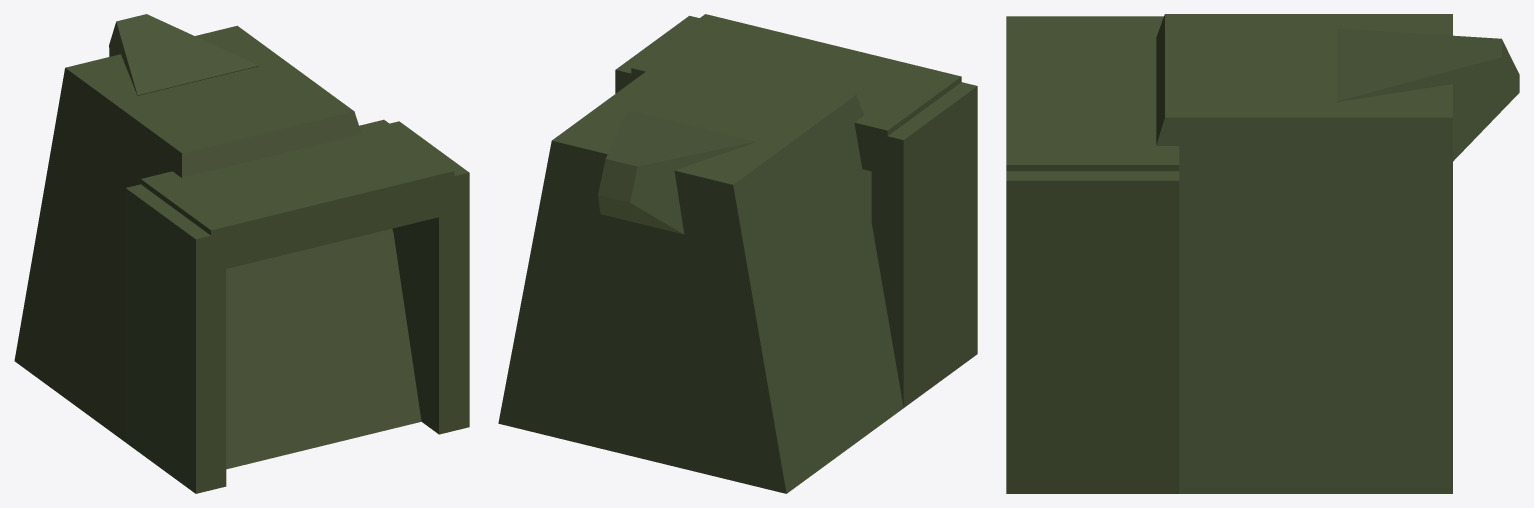
File: gear_head_scav_hood.glb
The picture shows the model from 3 angles, left to right: view 1: azimuth 30°, elevation 25°; view 2: azimuth 150°, elevation 25°; view 3: azimuth 270°, elevation 25°; orthographic projection. The views are drawn at different scales.
Parts seen in each view (by area): view 1: head; view 2: head; view 3: head.
Boxes of the visible parts, x1,y1,x2,y2 form: head: (14,14,469,493); head: (498,14,977,493); head: (1006,14,1519,493).
Bounding box in the file's own units: 0.27 × 0.2787 × 0.3562.
